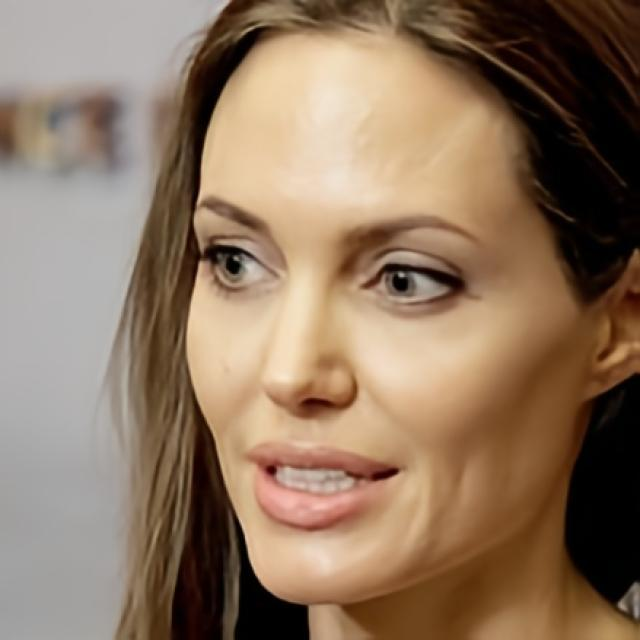surprise: (182, 23, 584, 607)
